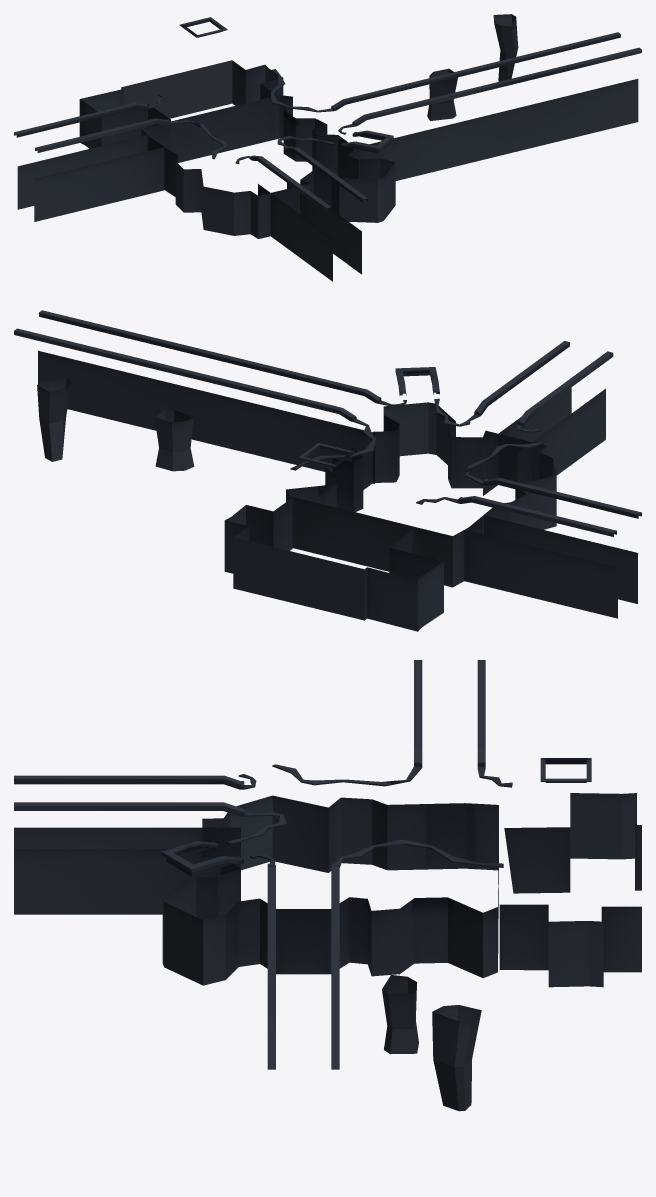
The model's file is Ground_04.FBX.
3 renders of one model, top to bottom at view 1: azimuth 30°, elevation 25°; view 2: azimuth 150°, elevation 25°; view 3: azimuth 270°, elevation 25°, orthographic. The views are drawn at different scales.
Parts seen in each view (by area): view 1: Ground_04; view 2: Ground_04; view 3: Ground_04.
Part boxes in pixels (left/top/right/bottom): Ground_04: left=14, top=14, right=641, bottom=281; Ground_04: left=14, top=310, right=641, bottom=631; Ground_04: left=14, top=660, right=641, bottom=1111.
Size of the model in its own units: 69.45 by 12.91 by 44.99.
